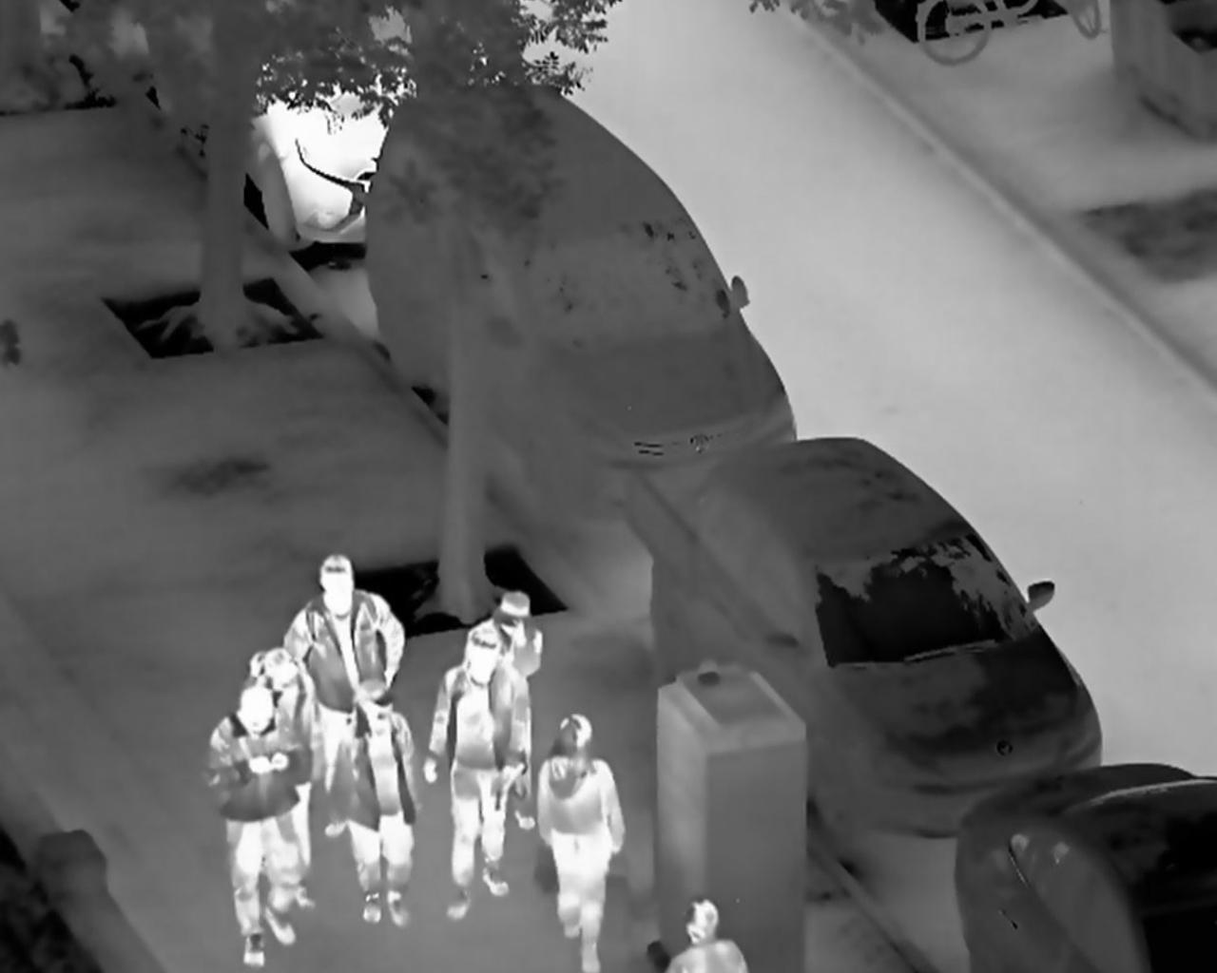person: (418, 623, 532, 919), (206, 678, 317, 973), (280, 552, 411, 798), (536, 714, 631, 973), (322, 682, 420, 929), (470, 583, 540, 828)
